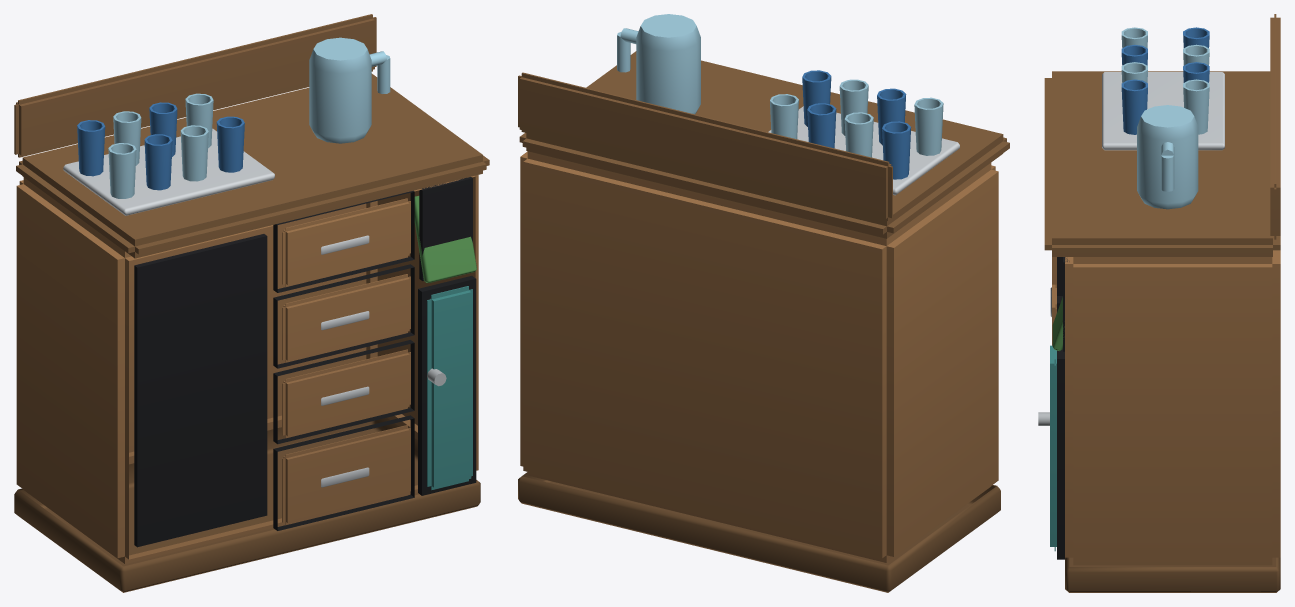
File: SM_ServerStation_01.glb
3 renders of one model, left to right at view 1: azimuth 30°, elevation 25°; view 2: azimuth 150°, elevation 25°; view 3: azimuth 270°, elevation 25°, orthographic. The views are drawn at different scales.
Visible parts, largest first — view 1: SM_ServerStation_01; view 2: SM_ServerStation_01; view 3: SM_ServerStation_01.
Boxes of the visible parts, x1=… form: SM_ServerStation_01: x1=14, y1=14, x2=489, y2=592; SM_ServerStation_01: x1=518, y1=14, x2=1009, y2=592; SM_ServerStation_01: x1=1038, y1=14, x2=1280, y2=592.
Size of the model in its own units: 1 by 1.17 by 0.59.
Materials: 1 (1 with a texture image).
